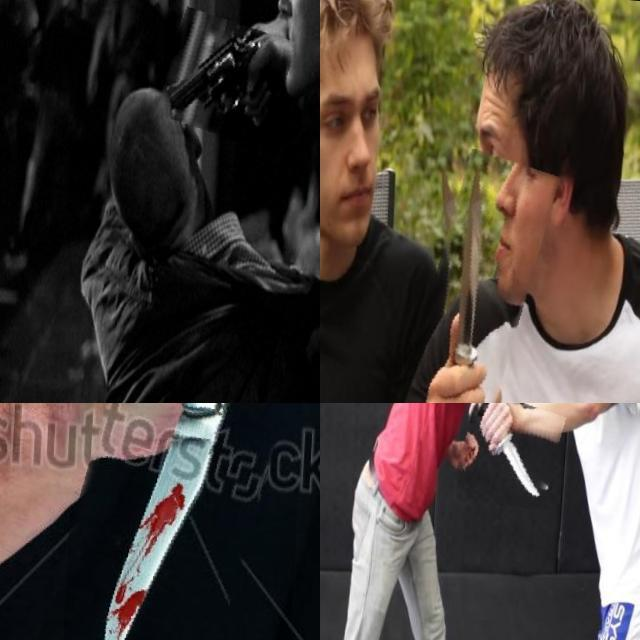-: (67, 403, 314, 640), (403, 139, 545, 403), (460, 403, 564, 503)
gun-knife-thesis - v11 Yolov5 augmented: (164, 6, 295, 139)
